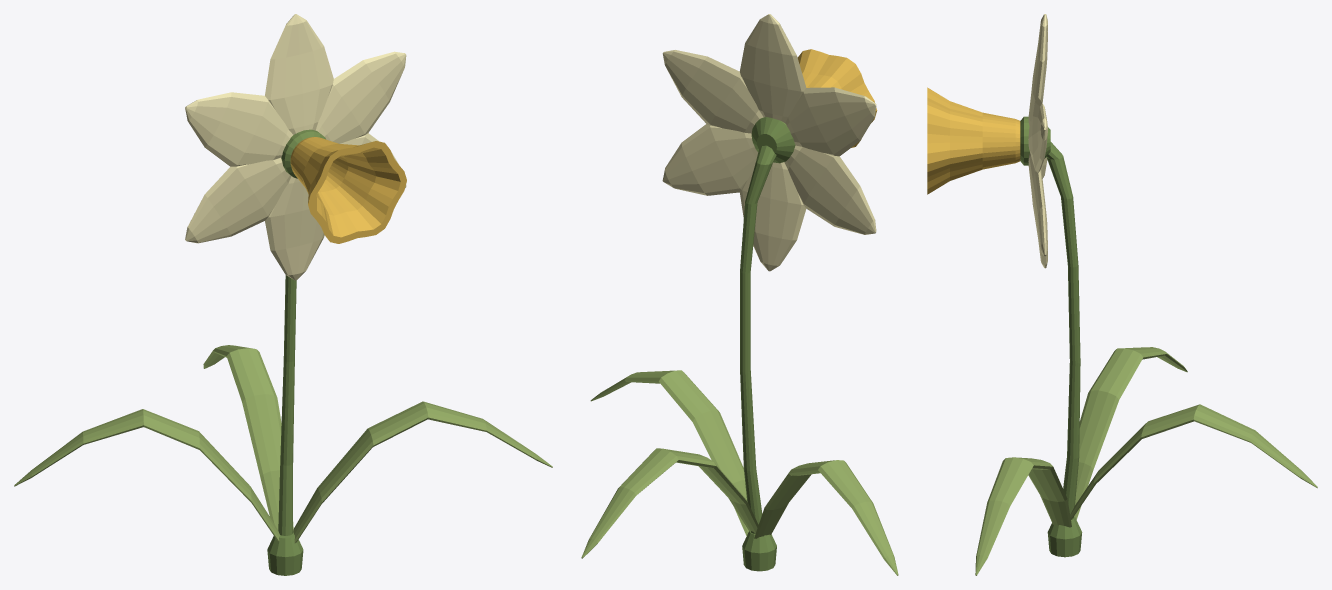
The picture shows the model from 3 angles, left to right: view 1: azimuth 30°, elevation 25°; view 2: azimuth 150°, elevation 25°; view 3: azimuth 270°, elevation 25°; orthographic projection. The views are drawn at different scales.
Visible parts, largest first — view 1: WholeDeepOpenFlaredDaffodilCorona, WholeTaperedDaffodilPerianthSegment1, WholeTaperedDaffodilPerianthSegment0, WholeTaperedDaffodilPerianthSegment2, WholeNarrowArchingBasalDaffodilLeaf2, WholeTaperedDaffodilPerianthSegment5, WholeNarrowArchingBasalDaffodilLeaf0, WholeNarrowArchingBasalDaffodilLeaf1, WholeTaperedDaffodilPerianthSegment3, WholeBentNeckDaffodilFlowerStalk, WholeSmallDaffodilBasalCrown; view 2: WholeTaperedDaffodilPerianthSegment4, WholeTaperedDaffodilPerianthSegment5, WholeTaperedDaffodilPerianthSegment2, WholeBentNeckDaffodilFlowerStalk, WholeTaperedDaffodilPerianthSegment0, WholeTaperedDaffodilPerianthSegment1, WholeNarrowArchingBasalDaffodilLeaf0, WholeNarrowArchingBasalDaffodilLeaf1, WholeTaperedDaffodilPerianthSegment3, WholeNarrowArchingBasalDaffodilLeaf2, WholeDeepOpenFlaredDaffodilCorona, WholeSmallDaffodilFlowerBack (+1 smaller); view 3: WholeDeepOpenFlaredDaffodilCorona, WholeBentNeckDaffodilFlowerStalk, WholeNarrowArchingBasalDaffodilLeaf1, WholeNarrowArchingBasalDaffodilLeaf0, WholeNarrowArchingBasalDaffodilLeaf2, WholeTaperedDaffodilPerianthSegment5, WholeSmallDaffodilBasalCrown, WholeTaperedDaffodilPerianthSegment4, WholeTaperedDaffodilPerianthSegment0, WholeSmallDaffodilFlowerBack.
Boxes of the visible parts, x1,y1,x2,y2 form: WholeDeepOpenFlaredDaffodilCorona: [290, 137, 406, 243]; WholeTaperedDaffodilPerianthSegment1: [185, 92, 292, 166]; WholeTaperedDaffodilPerianthSegment0: [265, 14, 333, 134]; WholeTaperedDaffodilPerianthSegment2: [185, 157, 291, 243]; WholeNarrowArchingBasalDaffodilLeaf2: [203, 345, 293, 530]; WholeTaperedDaffodilPerianthSegment5: [315, 51, 406, 143]; WholeNarrowArchingBasalDaffodilLeaf0: [293, 401, 552, 543]; WholeNarrowArchingBasalDaffodilLeaf1: [14, 409, 279, 541]; WholeTaperedDaffodilPerianthSegment3: [265, 176, 324, 280]; WholeBentNeckDaffodilFlowerStalk: [278, 275, 296, 535]; WholeSmallDaffodilBasalCrown: [267, 531, 303, 575]; WholeTaperedDaffodilPerianthSegment4: [662, 124, 758, 195]; WholeTaperedDaffodilPerianthSegment5: [662, 50, 763, 133]; WholeTaperedDaffodilPerianthSegment2: [784, 145, 876, 234]; WholeBentNeckDaffodilFlowerStalk: [740, 145, 776, 533]; WholeTaperedDaffodilPerianthSegment0: [739, 14, 806, 122]; WholeTaperedDaffodilPerianthSegment1: [785, 87, 876, 156]; WholeNarrowArchingBasalDaffodilLeaf0: [590, 370, 748, 536]; WholeNarrowArchingBasalDaffodilLeaf1: [754, 460, 898, 575]; WholeTaperedDaffodilPerianthSegment3: [739, 162, 806, 271]; WholeNarrowArchingBasalDaffodilLeaf2: [581, 448, 763, 558]; WholeDeepOpenFlaredDaffodilCorona: [797, 49, 877, 147]; WholeSmallDaffodilFlowerBack: [751, 117, 795, 163]; WholeDeepOpenFlaredDaffodilCorona: [927, 87, 1020, 194]; WholeBentNeckDaffodilFlowerStalk: [1046, 142, 1080, 519]; WholeNarrowArchingBasalDaffodilLeaf1: [1074, 347, 1187, 519]; WholeNarrowArchingBasalDaffodilLeaf0: [975, 457, 1071, 575]; WholeNarrowArchingBasalDaffodilLeaf2: [1070, 404, 1317, 519]; WholeTaperedDaffodilPerianthSegment5: [1028, 97, 1047, 172]; WholeSmallDaffodilBasalCrown: [1047, 516, 1082, 557]; WholeTaperedDaffodilPerianthSegment4: [1028, 153, 1047, 256]; WholeTaperedDaffodilPerianthSegment0: [1028, 14, 1047, 125]; WholeSmallDaffodilFlowerBack: [1020, 116, 1050, 165].
Bounding box in the file's own units: 1.15 × 1.44 × 0.9501.
